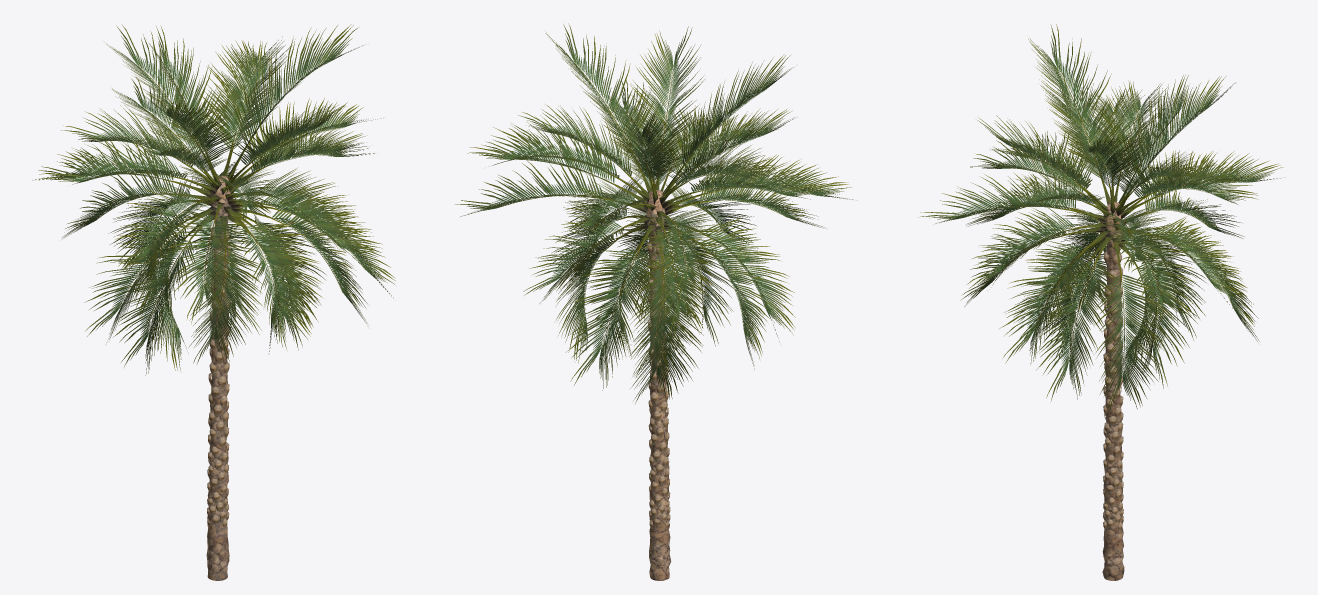
File: palm-tree.glb
The picture shows the model from 3 angles, left to right: view 1: azimuth 30°, elevation 25°; view 2: azimuth 150°, elevation 25°; view 3: azimuth 270°, elevation 25°; orthographic projection. The views are drawn at different scales.
Parts seen in each view (by area): view 1: Tree_1_Tree_1Mat_0, Tree_0_Tree_0Mat_0, Tree_3_Tree_3Mat_0, Tree_2_Tree_2Mat_0; view 2: Tree_1_Tree_1Mat_0, Tree_0_Tree_0Mat_0, Tree_3_Tree_3Mat_0, Tree_2_Tree_2Mat_0; view 3: Tree_1_Tree_1Mat_0, Tree_0_Tree_0Mat_0, Tree_2_Tree_2Mat_0, Tree_3_Tree_3Mat_0.
Part boxes in pixels (x1=…): Tree_1_Tree_1Mat_0: x1=32, y1=24, x2=395, y2=375; Tree_0_Tree_0Mat_0: x1=206, y1=175, x2=230, y2=580; Tree_3_Tree_3Mat_0: x1=155, y1=125, x2=293, y2=264; Tree_2_Tree_2Mat_0: x1=207, y1=228, x2=230, y2=528; Tree_1_Tree_1Mat_0: x1=455, y1=23, x2=853, y2=403; Tree_0_Tree_0Mat_0: x1=647, y1=190, x2=671, y2=580; Tree_3_Tree_3Mat_0: x1=583, y1=140, x2=725, y2=289; Tree_2_Tree_2Mat_0: x1=647, y1=241, x2=670, y2=530; Tree_1_Tree_1Mat_0: x1=918, y1=24, x2=1285, y2=415; Tree_0_Tree_0Mat_0: x1=1102, y1=202, x2=1124, y2=580; Tree_2_Tree_2Mat_0: x1=1103, y1=251, x2=1123, y2=531; Tree_3_Tree_3Mat_0: x1=1049, y1=156, x2=1167, y2=292.
Size of the model in its own units: 5.46 by 7.34 by 5.21.
Materials: 4 (4 with a texture image).
